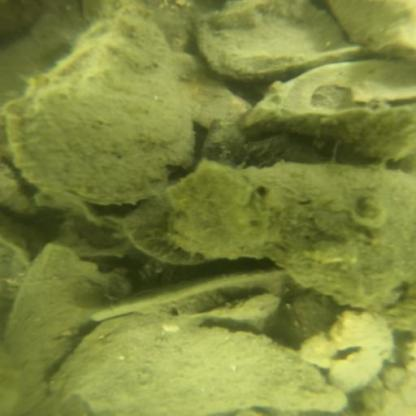Oyster-Closed: (166, 162, 416, 310), (26, 18, 190, 207), (59, 320, 354, 416), (0, 242, 144, 411), (246, 58, 416, 123)
